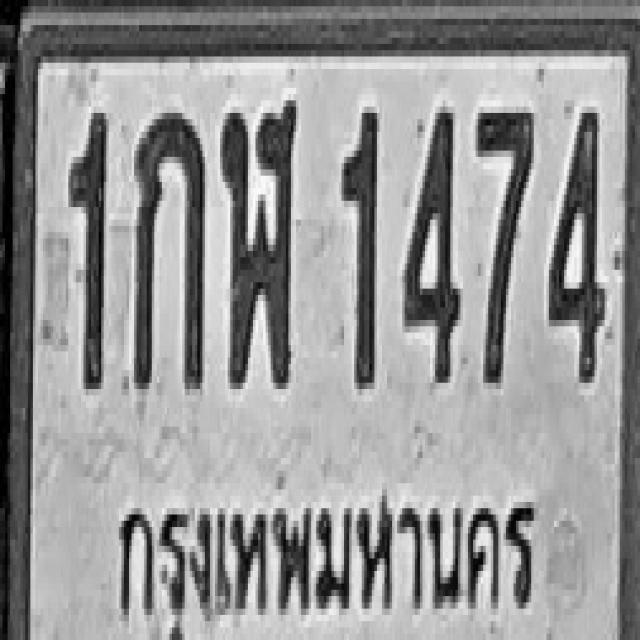1: (68, 107, 106, 389), (340, 107, 378, 389)
10GorGai: (131, 107, 205, 389)
4: (404, 106, 459, 382), (548, 106, 603, 382)
51LorChula: (222, 97, 298, 386)
7: (476, 106, 534, 382)
Bangkok: (106, 476, 547, 634)
